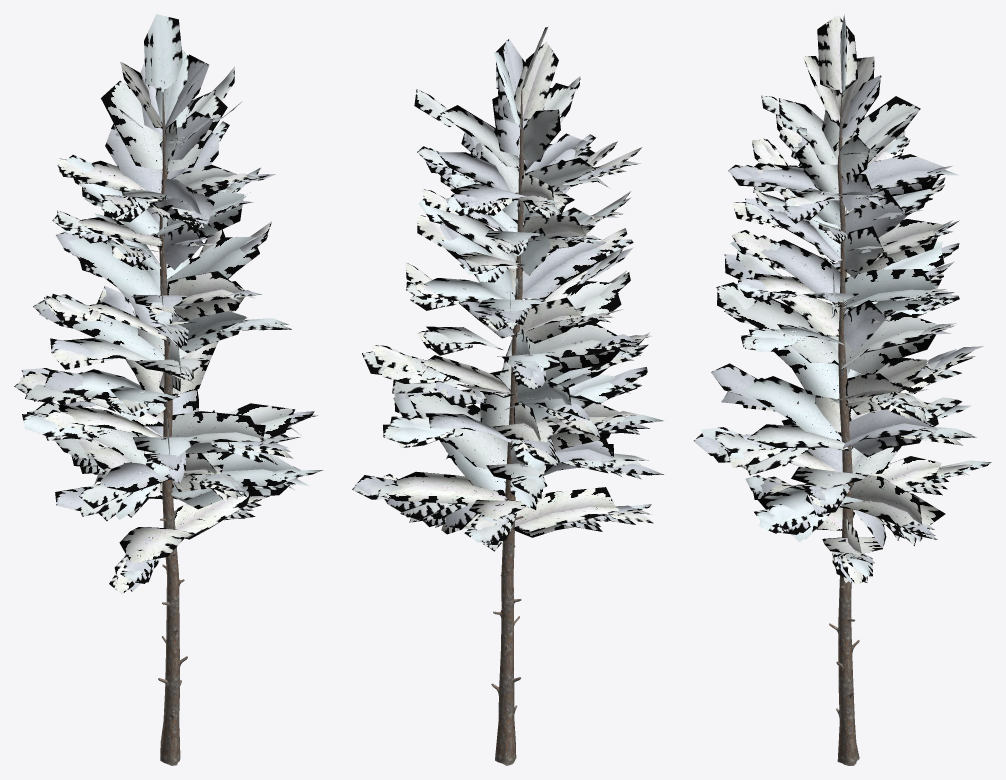
The model's file is Spruce_Norway_Desktop_2_Forest_001_e34dd2.glb.
3 renders of one model, left to right at view 1: azimuth 30°, elevation 25°; view 2: azimuth 150°, elevation 25°; view 3: azimuth 270°, elevation 25°, orthographic.
Size of the model in its own units: 5.63 by 14.29 by 5.22.
2 materials, 2 textured.
